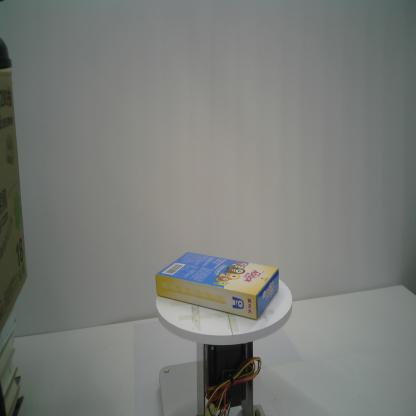Dessert: (154, 253, 279, 321)
